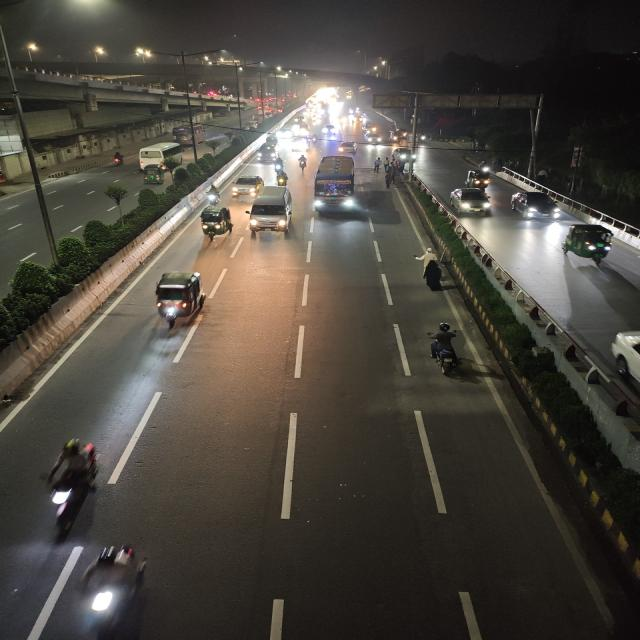bus: (312, 154, 359, 214), (139, 143, 184, 166), (170, 125, 208, 144)
car: (248, 186, 298, 237), (503, 189, 560, 224), (451, 186, 491, 218), (228, 173, 258, 198), (256, 144, 280, 164), (395, 148, 417, 164), (337, 141, 360, 154), (364, 133, 383, 145), (321, 125, 337, 136)
cng: (152, 265, 209, 341), (557, 224, 621, 264), (193, 203, 236, 247), (462, 168, 491, 188), (139, 165, 167, 185), (388, 131, 402, 143)
motorcycle: (31, 437, 109, 539), (416, 322, 476, 378), (202, 186, 226, 208), (109, 151, 125, 168), (297, 152, 310, 171), (273, 158, 286, 172), (276, 171, 288, 186), (419, 132, 427, 144), (312, 134, 318, 147)
pedestrian: (411, 243, 440, 267), (420, 262, 443, 290), (382, 170, 393, 191), (372, 156, 383, 173), (383, 154, 391, 170)
